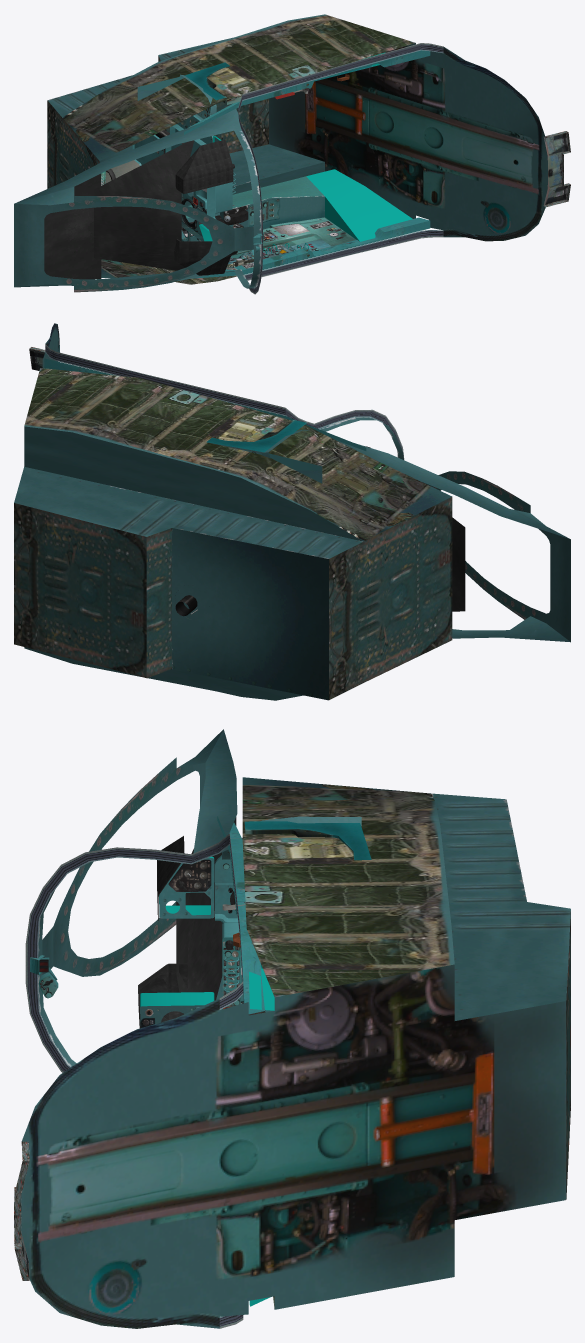
Rendered from cockpit.gltf.
3 renders of one model, top to bottom at view 1: azimuth 30°, elevation 25°; view 2: azimuth 150°, elevation 25°; view 3: azimuth 270°, elevation 25°, orthographic. The views are drawn at different scales.
Parts seen in each view (by area): view 1: kabina.007, Plane001.006, kabina.001, mig23mld_fuz.005, kabina.003, mig23mld_fuz.009, kabina.015, kabina.013; view 2: kabina.007, mig23mld_fuz.005, Plane001.006, kabina.013, mig23mld_fuz.009, kabina.003; view 3: kabina.007, kabina.001, Plane001.006, mig23mld_fuz.005, mig23mld_fuz.009, kabina.013.
Boxes of the visible parts, x1=… form: kabina.007: x1=14, y1=14, x2=570, y2=292; Plane001.006: x1=44, y1=139, x2=237, y2=279; kabina.001: x1=132, y1=52, x2=412, y2=259; mig23mld_fuz.005: x1=238, y1=43, x2=443, y2=294; kabina.003: x1=137, y1=76, x2=331, y2=264; mig23mld_fuz.009: x1=184, y1=50, x2=430, y2=278; kabina.015: x1=185, y1=176, x2=355, y2=258; kabina.013: x1=184, y1=62, x2=372, y2=104; kabina.007: x1=14, y1=323, x2=570, y2=700; mig23mld_fuz.005: x1=45, y1=344, x2=404, y2=459; Plane001.006: x1=366, y1=446, x2=465, y2=611; kabina.013: x1=206, y1=420, x2=306, y2=452; mig23mld_fuz.009: x1=44, y1=358, x2=366, y2=450; kabina.003: x1=210, y1=443, x2=322, y2=483; kabina.007: x1=14, y1=729, x2=570, y2=1328; kabina.001: x1=30, y1=855, x2=274, y2=1306; Plane001.006: x1=138, y1=817, x2=236, y2=1028; mig23mld_fuz.005: x1=25, y1=833, x2=243, y2=1328; mig23mld_fuz.009: x1=217, y1=816, x2=264, y2=1014; kabina.013: x1=244, y1=821, x2=371, y2=964.
Size of the model in its own units: 2.22 by 0.8414 by 1.25.
Materials: 7 (7 with a texture image).
